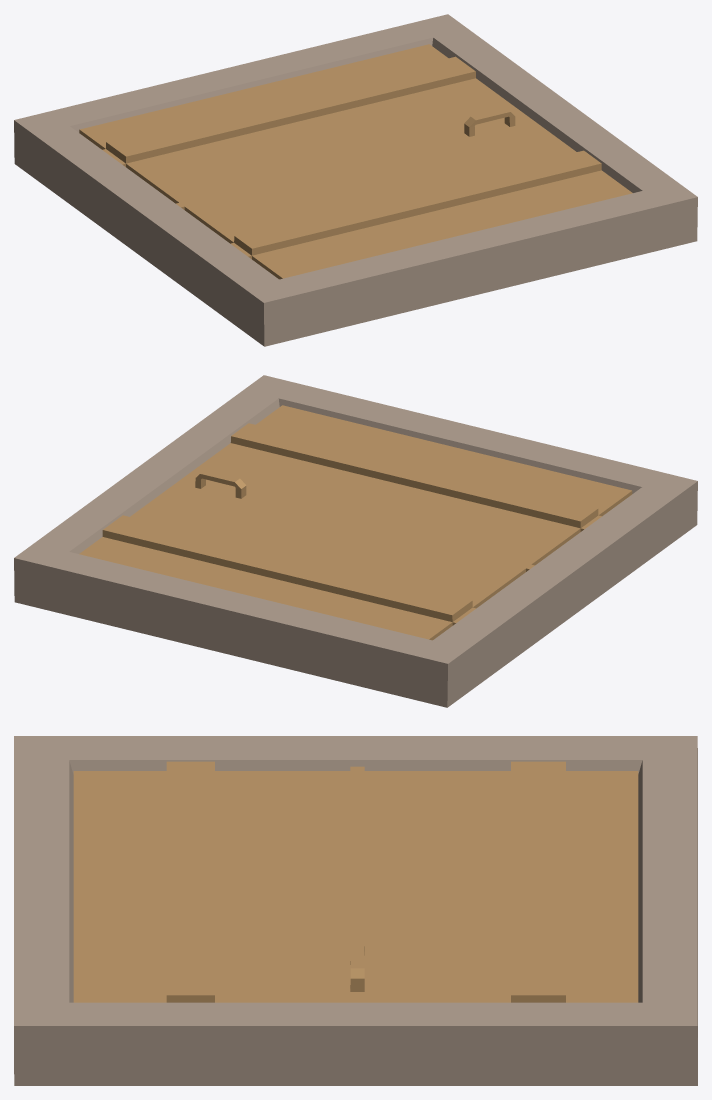
Rendered from exit02.fbx.
The picture shows the model from 3 angles, top to bottom: view 1: azimuth 30°, elevation 25°; view 2: azimuth 150°, elevation 25°; view 3: azimuth 270°, elevation 25°; orthographic projection. The views are drawn at different scales.
Visible parts, largest first — view 1: door, frame; view 2: door, frame; view 3: door, frame.
Boxes of the visible parts, x1,y1,x2,y2 form: door: (79,44,632,279); frame: (14,14,697,346); door: (79,405,632,640); frame: (14,375,697,707); door: (73,761,638,1002); frame: (14,736,697,1085).
Size of the model in its own units: 203 by 24.55 by 202.
